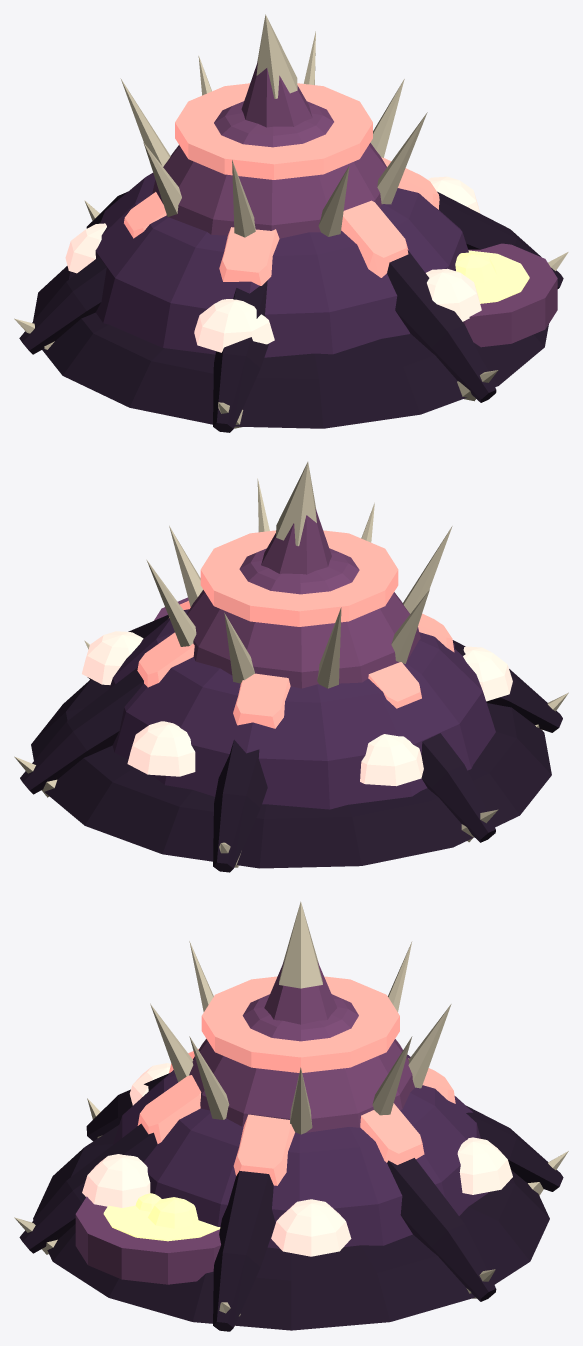
Rendered from brood_nest.glb.
The picture shows the model from 3 angles, top to bottom: view 1: azimuth 30°, elevation 25°; view 2: azimuth 150°, elevation 25°; view 3: azimuth 270°, elevation 25°; orthographic projection.
Visible parts, largest first — view 1: Surf_dark, Surf_chit, Surf_warm, Surf_TEAM, Surf_bone, Surf_GLOW, Surf_acid; view 2: Surf_dark, Surf_chit, Surf_warm, Surf_TEAM, Surf_GLOW, Surf_bone; view 3: Surf_dark, Surf_chit, Surf_warm, Surf_TEAM, Surf_bone, Surf_GLOW, Surf_acid.
Part boxes in pixels (x1=…): Surf_dark: x1=19, y1=191, x2=563, y2=432; Surf_chit: x1=95, y1=173, x2=468, y2=357; Surf_warm: x1=152, y1=61, x2=557, y2=347; Surf_TEAM: x1=124, y1=83, x2=439, y2=285; Surf_bone: x1=14, y1=14, x2=568, y2=428; Surf_GLOW: x1=65, y1=176, x2=481, y2=352; Surf_acid: x1=455, y1=250, x2=529, y2=303; Surf_dark: x1=20, y1=615, x2=562, y2=872; Surf_chit: x1=109, y1=609, x2=495, y2=809; Surf_warm: x1=154, y1=509, x2=420, y2=688; Surf_TEAM: x1=137, y1=530, x2=454, y2=728; Surf_GLOW: x1=82, y1=631, x2=512, y2=786; Surf_bone: x1=14, y1=462, x2=568, y2=867; Surf_dark: x1=19, y1=1073, x2=563, y2=1331; Surf_chit: x1=113, y1=1054, x2=488, y2=1248; Surf_warm: x1=75, y1=962, x2=414, y2=1284; Surf_TEAM: x1=137, y1=976, x2=455, y2=1185; Surf_bone: x1=14, y1=901, x2=568, y2=1326; Surf_GLOW: x1=82, y1=1063, x2=512, y2=1256; Surf_acid: x1=103, y1=1193, x2=220, y2=1241.
Bounding box in the file's own units: 8.36 × 5.18 × 8.29.
